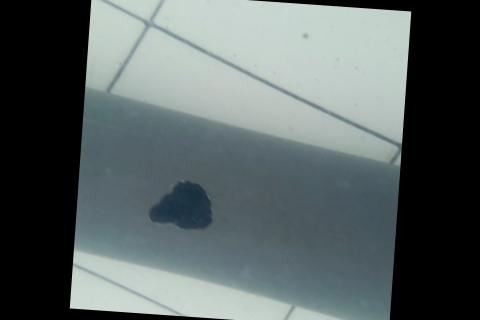kebocoran: (143, 177, 217, 234)
